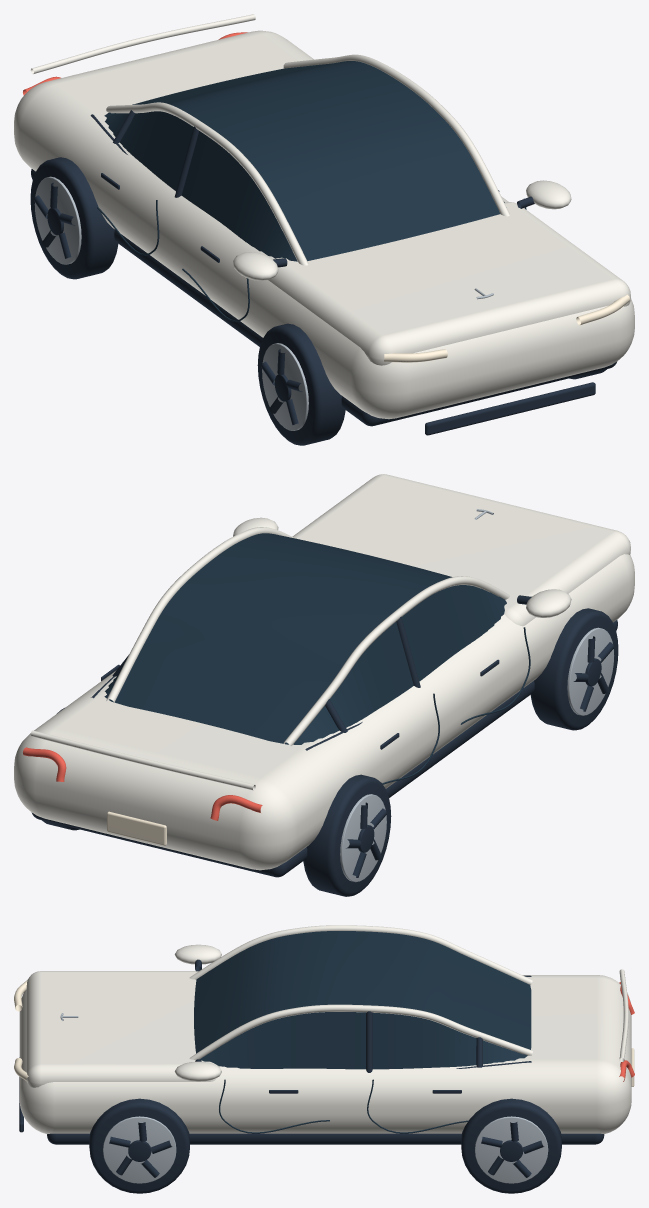
The model's file is tesla-model-3.glb.
3 views of the same model, one above another, from view 1: azimuth 30°, elevation 25°; view 2: azimuth 150°, elevation 25°; view 3: azimuth 270°, elevation 25° (orthographic). The views are drawn at different scales.
Visible parts, largest first — view 1: Pearl paint, Midnight glass, Ink, Satin alloy, Porcelain; view 2: Pearl paint, Midnight glass, Ink, Satin alloy, Porcelain, Coral; view 3: Pearl paint, Midnight glass, Ink, Satin alloy, Porcelain.
Part boxes in pixels (x1,y1,x2,y2): Pearl paint: (14, 14, 634, 419); Midnight glass: (97, 61, 526, 321); Ink: (30, 110, 617, 445); Satin alloy: (34, 176, 493, 430); Porcelain: (384, 294, 630, 362); Pearl paint: (14, 474, 634, 870); Midnight glass: (104, 533, 530, 784); Ink: (31, 595, 618, 896); Satin alloy: (340, 509, 614, 882); Porcelain: (107, 540, 630, 845); Coral: (23, 747, 262, 820); Pearl paint: (19, 925, 631, 1134); Midnight glass: (194, 931, 531, 1133); Ink: (19, 959, 604, 1193); Satin alloy: (60, 1013, 548, 1183); Porcelain: (14, 980, 634, 1086).
Bounding box in the file's own units: 2.22 × 1.34 × 4.44.
